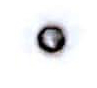cancer: (21, 7, 85, 69)
